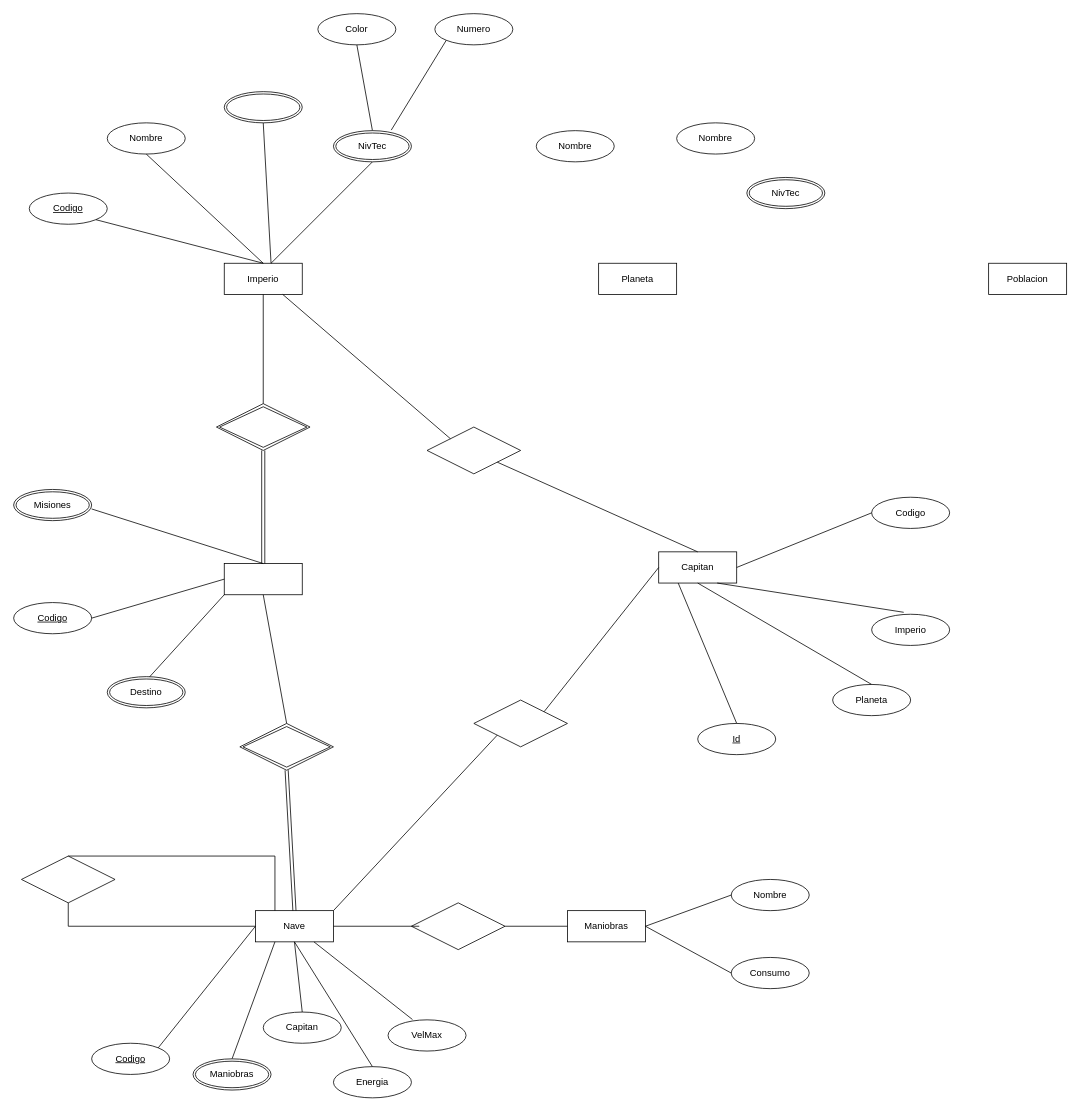
The diagram is 1080 pixels wide and 1112 high, and some of its shapes have lost their labels. The box of each missing label's shape, as (x1, y1, x2, y2) in pixels:
Armamentos: (223, 91, 302, 123)
Comanda: (216, 403, 310, 450)
Flota: (223, 563, 302, 595)
Pertenece: (239, 723, 333, 770)
Pilotea: (473, 699, 567, 747)
Realiza: (411, 902, 505, 950)
Remolca: (21, 855, 115, 903)
Respodne: (426, 426, 521, 474)
